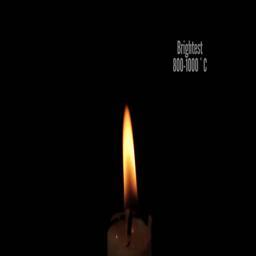fire: (120, 106, 137, 201)
